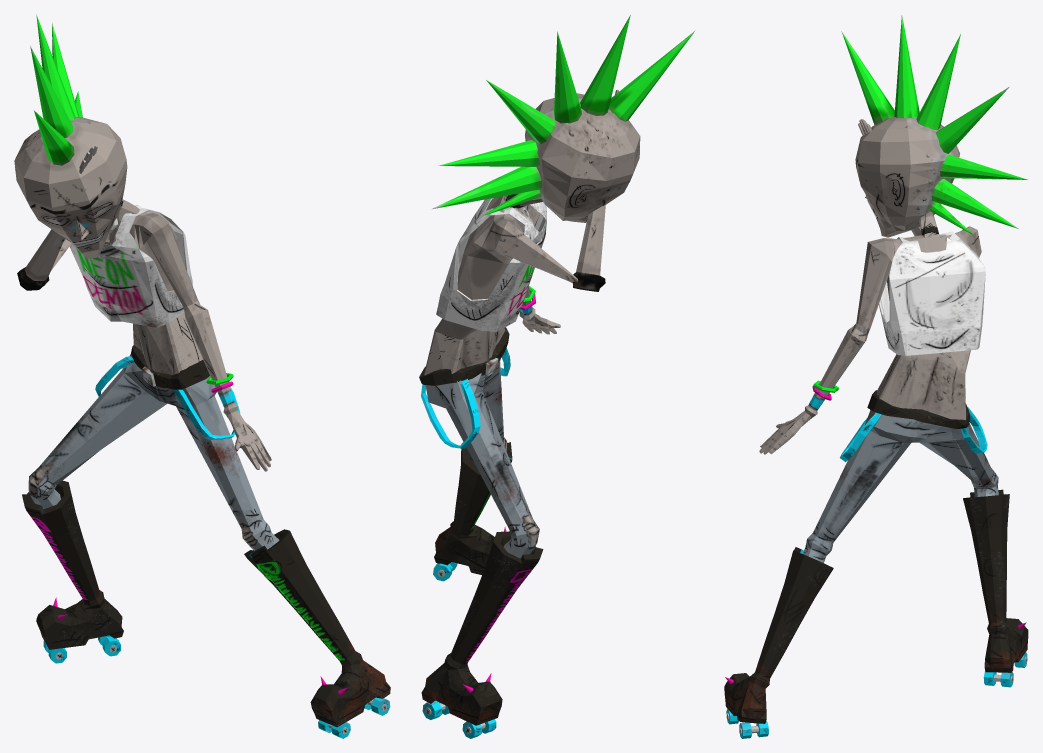
Rendered from punkAnimation_000039.obj.
3 views of the same model, side by side, from view 1: azimuth 30°, elevation 25°; view 2: azimuth 150°, elevation 25°; view 3: azimuth 270°, elevation 25° (orthographic). The views are drawn at different scales.
Parts seen in each view (by area): view 1: Cube.004_Cube.003; view 2: Cube.004_Cube.003; view 3: Cube.004_Cube.003.
Part boxes in pixels (left/top/right/bottom): Cube.004_Cube.003: left=14, top=14, right=390, bottom=738; Cube.004_Cube.003: left=419, top=15, right=695, bottom=738; Cube.004_Cube.003: left=724, top=15, right=1028, bottom=738.
Size of the model in its own units: 3.14 by 6.72 by 3.02.
